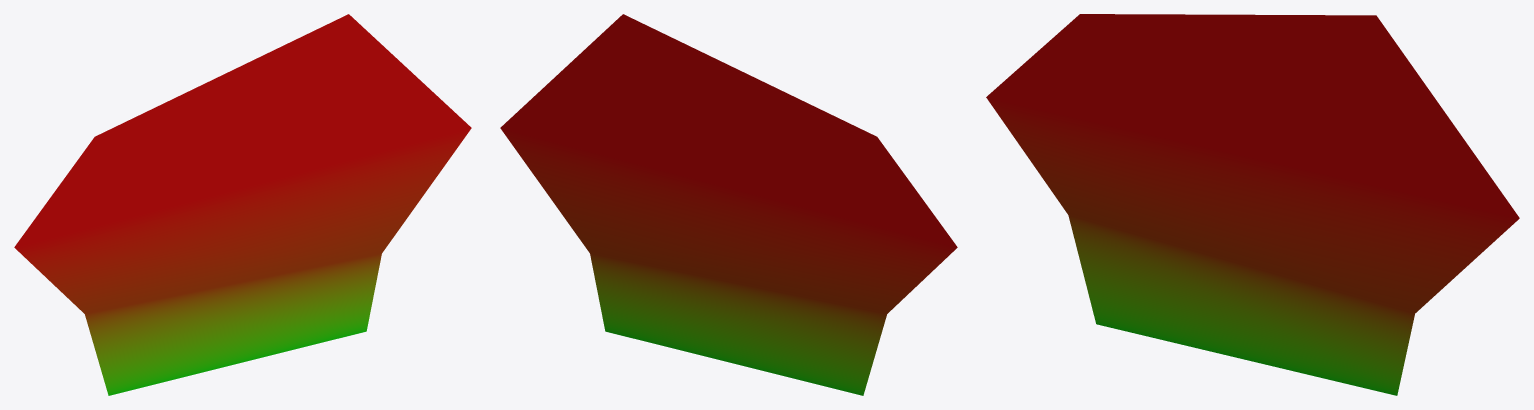
The model's file is Cotton Grass_LOD4_Var1_wlykecdia.fbx.
3 renders of one model, left to right at view 1: azimuth 30°, elevation 25°; view 2: azimuth 150°, elevation 25°; view 3: azimuth 330°, elevation 25°, orthographic. The views are drawn at different scales.
Parts seen in each view (by area): view 1: _0d2l_Var1_LOD4; view 2: _0d2l_Var1_LOD4; view 3: _0d2l_Var1_LOD4.
Boxes of the visible parts, <box> form: _0d2l_Var1_LOD4: <box>14,14,471,395</box>; _0d2l_Var1_LOD4: <box>500,14,957,395</box>; _0d2l_Var1_LOD4: <box>986,14,1519,395</box>.
Bounding box in the file's own units: 36.92 × 24.93 × 1.09e-06.
